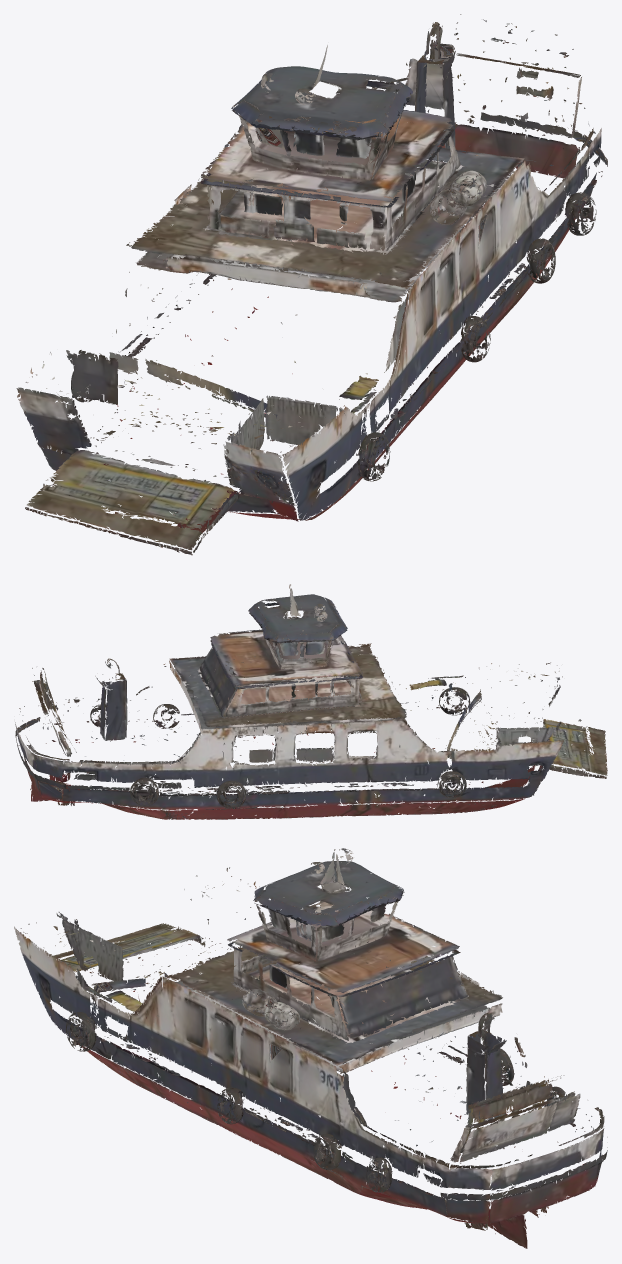
The model's file is ferry.glb.
3 renders of one model, top to bottom at view 1: azimuth 30°, elevation 25°; view 2: azimuth 150°, elevation 25°; view 3: azimuth 270°, elevation 25°, orthographic. The views are drawn at different scales.
Visible parts, largest first — view 1: world; view 2: world; view 3: world.
Boxes of the visible parts, bbox=[...] form: world: bbox=[16, 14, 607, 555]; world: bbox=[15, 584, 607, 819]; world: bbox=[14, 848, 607, 1248].
Size of the model in its own units: 2.89 by 1.31 by 2.39.
1 material, 1 textured.
